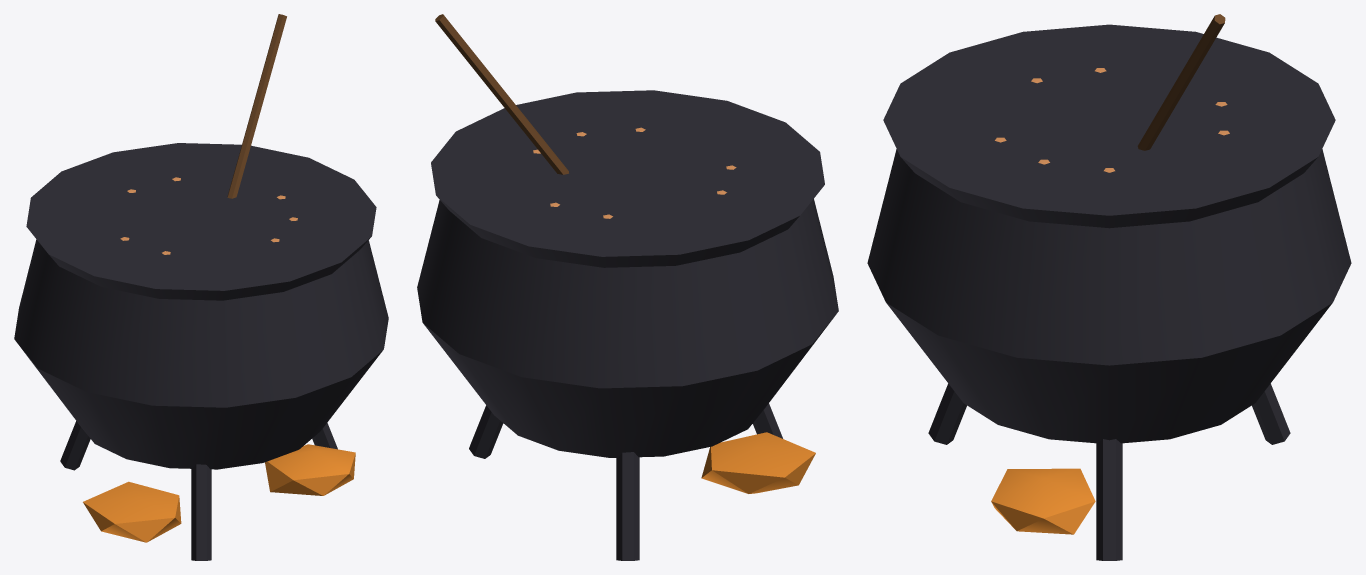
Rendered from cauldron.glb.
The picture shows the model from 3 angles, left to right: view 1: azimuth 30°, elevation 25°; view 2: azimuth 150°, elevation 25°; view 3: azimuth 270°, elevation 25°; orthographic projection. The views are drawn at different scales.
Visible parts, largest first — view 1: cauldron; view 2: cauldron; view 3: cauldron.
Boxes of the visible parts, <box> form: cauldron: <box>14,14,388,560</box>; cauldron: <box>417,14,838,560</box>; cauldron: <box>867,14,1351,560</box>.
Size of the model in its own units: 1.84 by 2.28 by 1.84.
